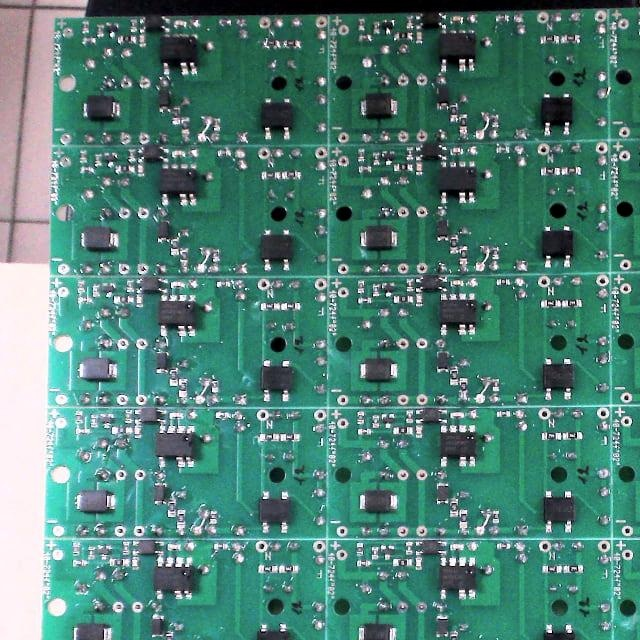chip-capacitor: (167, 542, 182, 552), (170, 280, 186, 289), (168, 411, 184, 420), (414, 557, 424, 571), (449, 15, 464, 24), (171, 149, 186, 158), (450, 279, 465, 288), (449, 147, 464, 156), (449, 543, 465, 551), (131, 556, 140, 570), (134, 424, 142, 439), (415, 424, 423, 439), (450, 411, 465, 419), (415, 161, 423, 176), (173, 20, 187, 28), (415, 31, 423, 45), (137, 163, 145, 177), (136, 293, 144, 307), (415, 293, 423, 307), (139, 34, 146, 48)
chip-resistor: (448, 365, 459, 386), (393, 31, 413, 42), (279, 432, 301, 442), (541, 564, 563, 574), (258, 432, 279, 442), (257, 564, 278, 574), (561, 166, 582, 176), (540, 299, 561, 309), (541, 431, 562, 441), (563, 431, 584, 441), (449, 497, 459, 518), (563, 564, 584, 574), (261, 39, 281, 49), (115, 164, 135, 174), (282, 170, 302, 180), (176, 509, 186, 529), (167, 498, 177, 518), (449, 234, 459, 254), (392, 426, 414, 435), (283, 39, 302, 49), (170, 237, 180, 256), (169, 368, 179, 387), (539, 35, 560, 44), (260, 171, 281, 180), (113, 295, 134, 304), (259, 302, 280, 311), (280, 302, 301, 311), (111, 426, 132, 435), (278, 564, 299, 573), (562, 299, 583, 308), (392, 558, 413, 567), (181, 117, 191, 135), (561, 35, 581, 44), (179, 378, 188, 398), (393, 163, 413, 172), (540, 167, 560, 176), (393, 295, 413, 304), (458, 377, 468, 395), (459, 509, 468, 528), (179, 247, 189, 264), (459, 245, 469, 262), (108, 558, 128, 566), (172, 106, 180, 125), (127, 148, 137, 163), (208, 510, 218, 525), (118, 36, 136, 44), (459, 113, 468, 129), (77, 296, 93, 305), (124, 408, 133, 424), (72, 559, 88, 568), (358, 33, 373, 42), (372, 20, 381, 35), (90, 413, 99, 428), (216, 411, 231, 420), (71, 542, 80, 557), (495, 145, 510, 154), (491, 245, 500, 260), (496, 278, 511, 287), (491, 378, 500, 393), (450, 104, 458, 120), (496, 410, 512, 418), (496, 542, 512, 550), (94, 153, 103, 167), (126, 279, 135, 293), (74, 410, 83, 424), (121, 541, 130, 555), (356, 411, 365, 425), (405, 410, 414, 424), (495, 14, 510, 22), (212, 248, 220, 263), (216, 280, 231, 288), (75, 427, 90, 435), (87, 545, 95, 560), (357, 296, 372, 304), (372, 283, 380, 298), (406, 278, 414, 293), (357, 428, 372, 436), (372, 414, 380, 429), (492, 509, 500, 524), (356, 542, 364, 557), (356, 560, 371, 568), (405, 16, 414, 29), (82, 37, 96, 45), (80, 166, 94, 174), (217, 149, 231, 157), (211, 379, 219, 393), (358, 165, 372, 173), (406, 146, 414, 160), (357, 280, 365, 294), (371, 546, 379, 560), (405, 541, 413, 555), (213, 543, 228, 550), (358, 148, 365, 163), (81, 21, 89, 34), (130, 19, 138, 32), (219, 19, 232, 27), (212, 118, 220, 131), (358, 18, 366, 31), (92, 284, 100, 297), (373, 152, 380, 166), (97, 24, 104, 37), (80, 150, 87, 163), (78, 280, 85, 293), (492, 116, 499, 128)
diode: (359, 356, 400, 383), (82, 94, 121, 122), (359, 92, 399, 119), (80, 225, 120, 252), (358, 488, 399, 514), (359, 225, 400, 251), (78, 357, 119, 382), (75, 489, 116, 513), (72, 622, 113, 640), (358, 623, 397, 640), (153, 481, 167, 506), (151, 613, 165, 638), (157, 89, 172, 112), (155, 351, 169, 375), (435, 614, 449, 638), (436, 481, 450, 505), (435, 350, 449, 373), (436, 219, 450, 242), (437, 86, 449, 109), (158, 220, 170, 243)
ic: (154, 424, 198, 468), (159, 163, 200, 207), (153, 556, 194, 600), (438, 556, 479, 600), (159, 293, 199, 337), (159, 34, 200, 75), (439, 424, 478, 467), (438, 161, 477, 204), (439, 292, 477, 336), (439, 29, 476, 73), (258, 489, 292, 534), (260, 97, 294, 141), (543, 489, 576, 534), (260, 228, 293, 272), (542, 357, 575, 401), (541, 92, 573, 137), (260, 359, 292, 403), (542, 224, 574, 268), (415, 275, 449, 294), (131, 539, 166, 557), (137, 145, 170, 164), (414, 539, 448, 557), (136, 276, 169, 294), (133, 407, 167, 424), (415, 408, 449, 425), (415, 144, 447, 162), (139, 16, 171, 33), (415, 13, 447, 30)
transistor: (96, 543, 112, 561), (380, 149, 396, 166), (105, 22, 120, 39), (381, 18, 396, 35), (380, 544, 395, 561), (380, 412, 395, 429), (103, 152, 118, 168), (101, 282, 116, 298), (381, 281, 396, 297), (100, 413, 114, 430)
